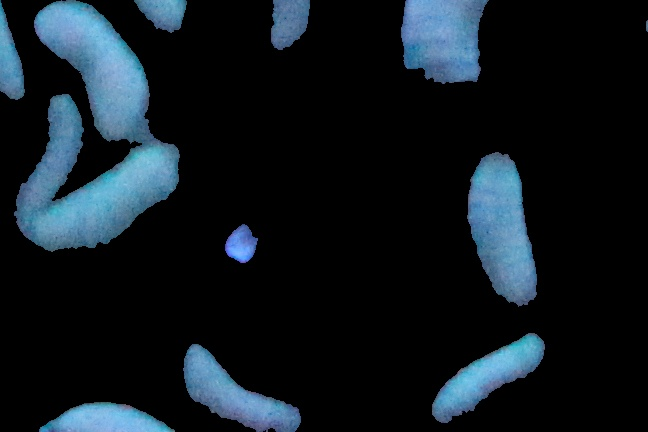larvae: (36, 1, 149, 140), (49, 144, 181, 256), (462, 148, 549, 312), (396, 1, 506, 106), (184, 343, 306, 432), (428, 331, 542, 424), (11, 96, 82, 229), (42, 388, 174, 432), (261, 1, 320, 56), (1, 1, 31, 105)
